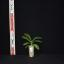leaf: (24, 33, 32, 43), (22, 36, 31, 43), (32, 37, 42, 43), (32, 44, 39, 50), (32, 40, 42, 44), (25, 45, 31, 49), (23, 42, 31, 45)
